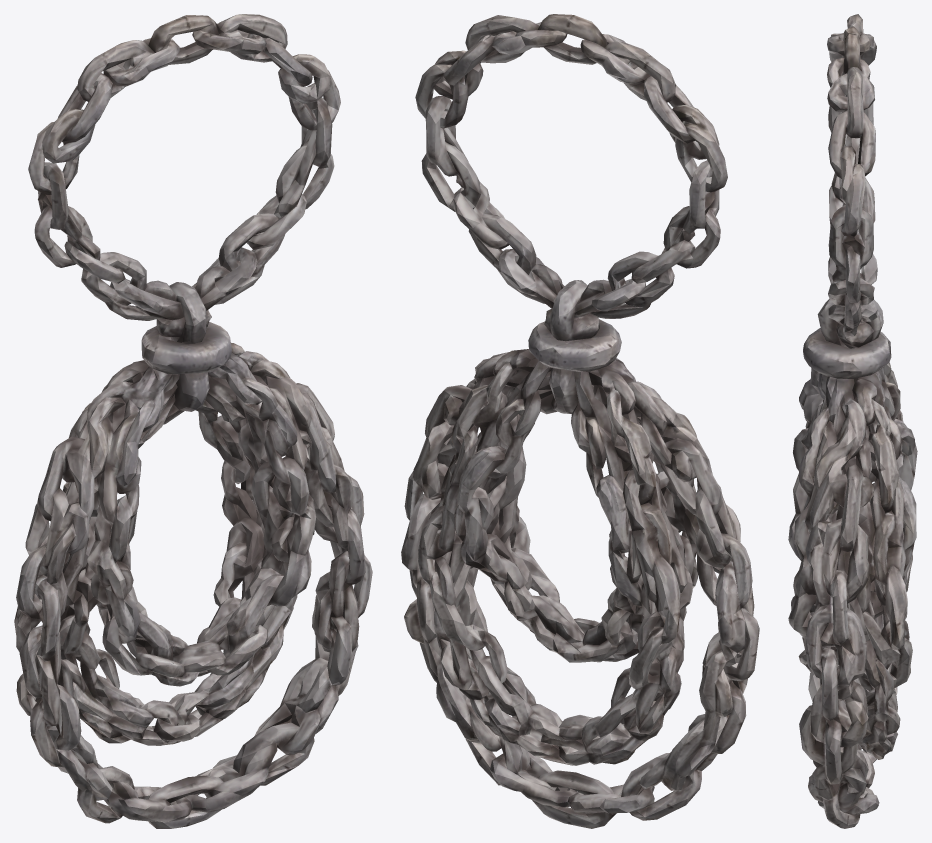
Rendered from lasso.glb.
3 renders of one model, left to right at view 1: azimuth 30°, elevation 25°; view 2: azimuth 150°, elevation 25°; view 3: azimuth 270°, elevation 25°, orthographic. The views are drawn at different scales.
Visible parts, largest first — view 1: Mesh_0; view 2: Mesh_0; view 3: Mesh_0.
Part boxes in pixels (bbox=[...]): Mesh_0: bbox=[14, 14, 372, 828]; Mesh_0: bbox=[401, 14, 759, 828]; Mesh_0: bbox=[788, 14, 917, 828].
Size of the model in its own units: 0.8615 by 1.9 by 0.2843.
Materials: 1 (1 with a texture image).
